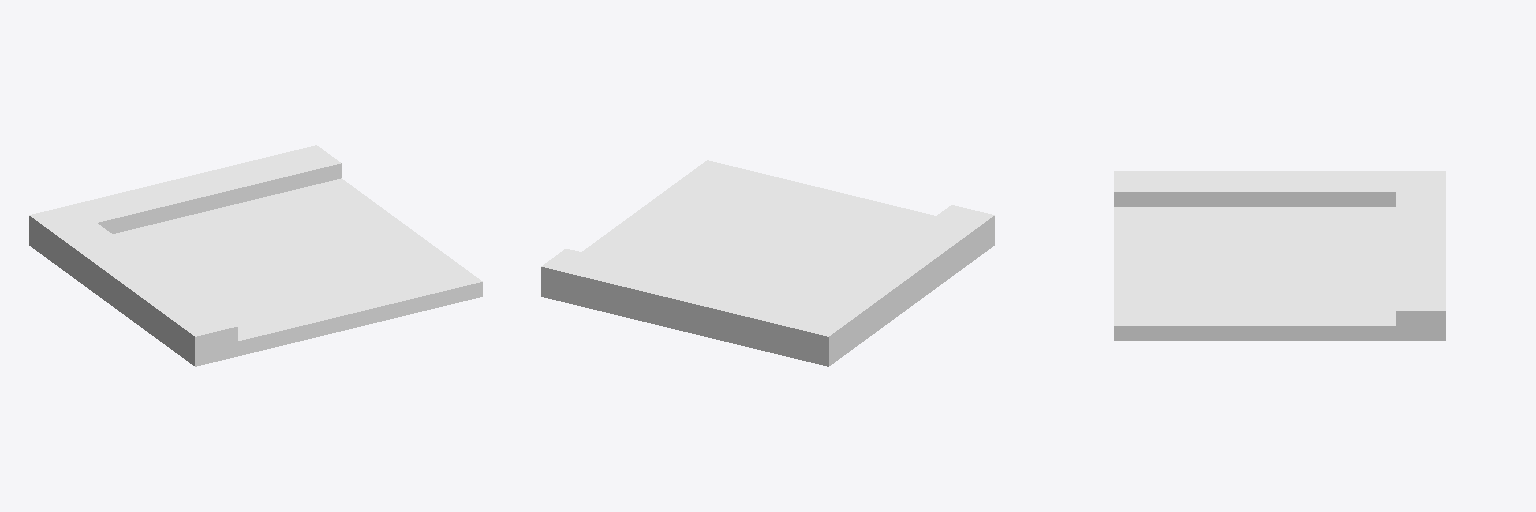
The model's file is Stenka1-2.obj.
3 renders of one model, left to right at view 1: azimuth 30°, elevation 25°; view 2: azimuth 150°, elevation 25°; view 3: azimuth 270°, elevation 25°, orthographic.
Parts seen in each view (by area): view 1: object 1; view 2: object 1; view 3: object 1.
Part boxes in pixels (x1,y1,x2,y2): object 1: (29,145,482,366); object 1: (541,160,994,366); object 1: (1114,171,1445,340).
Size of the model in its own units: 2 by 0.2 by 2.